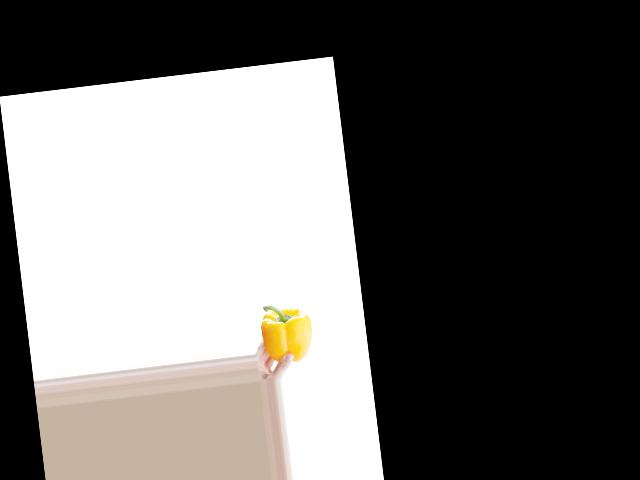bell_pepper: (258, 297, 316, 366)
